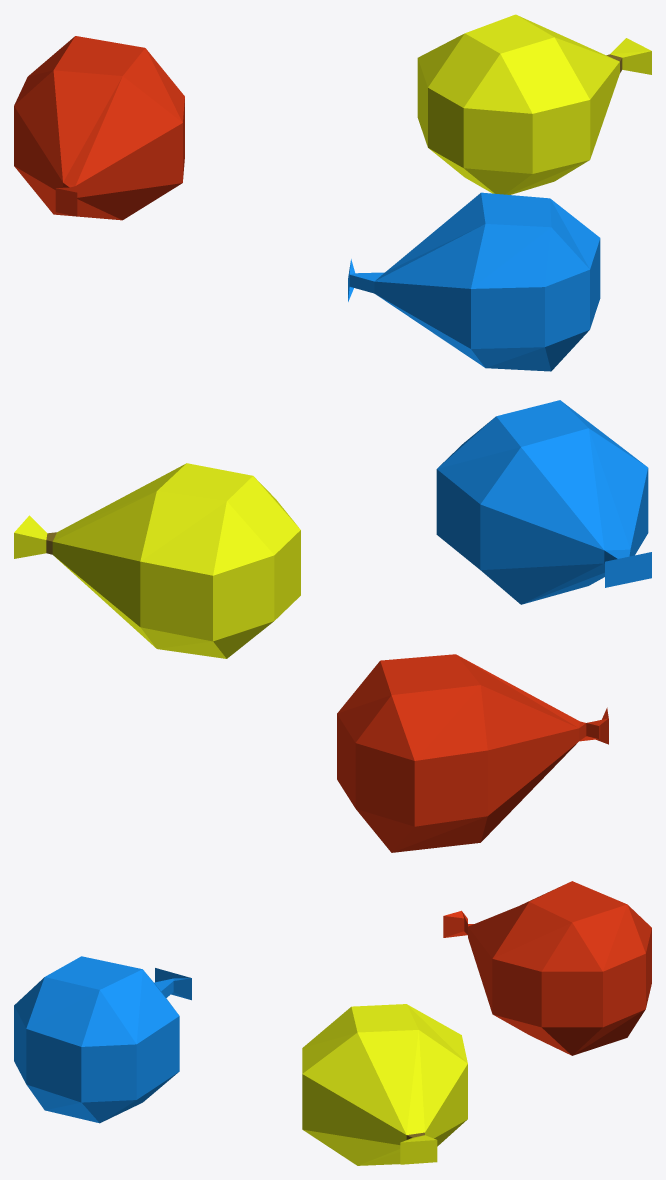
File: obj_party_balloon_8_0.obj
The picture shows the model from 3 angles, top to bottom: view 1: azimuth 30°, elevation 25°; view 2: azimuth 150°, elevation 25°; view 3: azimuth 270°, elevation 25°; orthographic projection. The views are drawn at different scales.
Size of the model in its own units: 0.7656 by 0.2188 by 0.8125.
